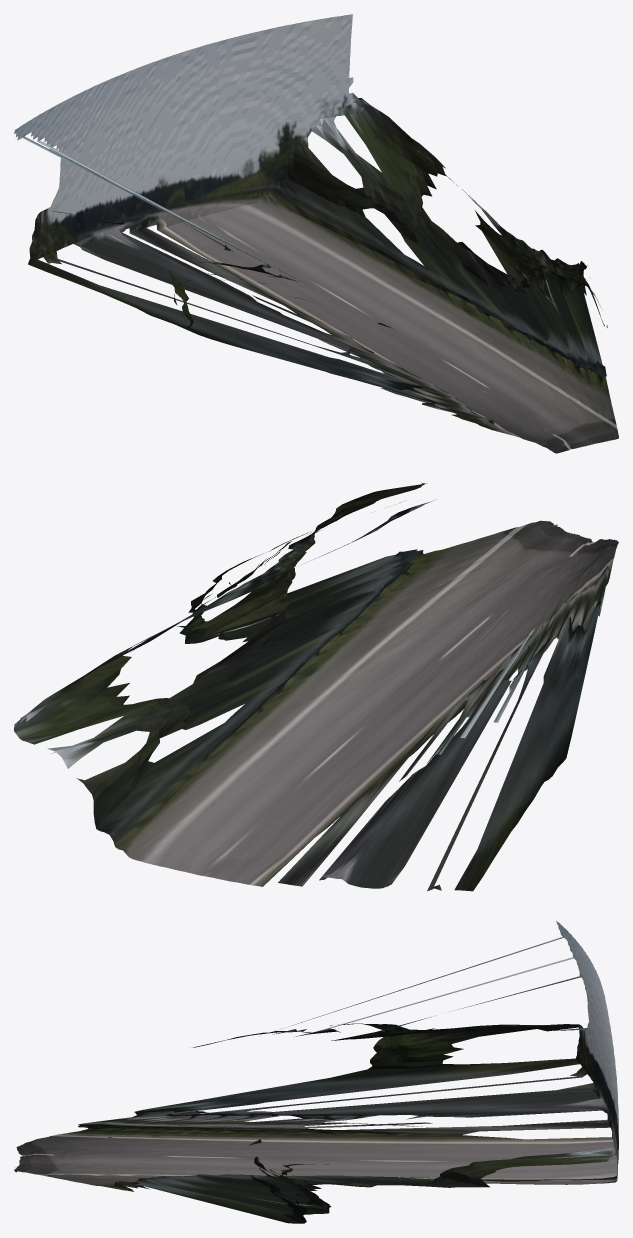
3 views of the same model, one above another, from view 1: azimuth 30°, elevation 25°; view 2: azimuth 150°, elevation 25°; view 3: azimuth 270°, elevation 25° (orthographic). The views are drawn at different scales.
Parts seen in each view (by area): view 1: defaultobject; view 2: defaultobject; view 3: defaultobject.
Boxes of the visible parts, x1,y1,x2,y2 form: defaultobject: (14, 14, 618, 453); defaultobject: (14, 482, 618, 891); defaultobject: (14, 921, 618, 1223).
Size of the model in its own units: 31.35 by 12.65 by 44.8.
Materials: 1 (1 with a texture image).
